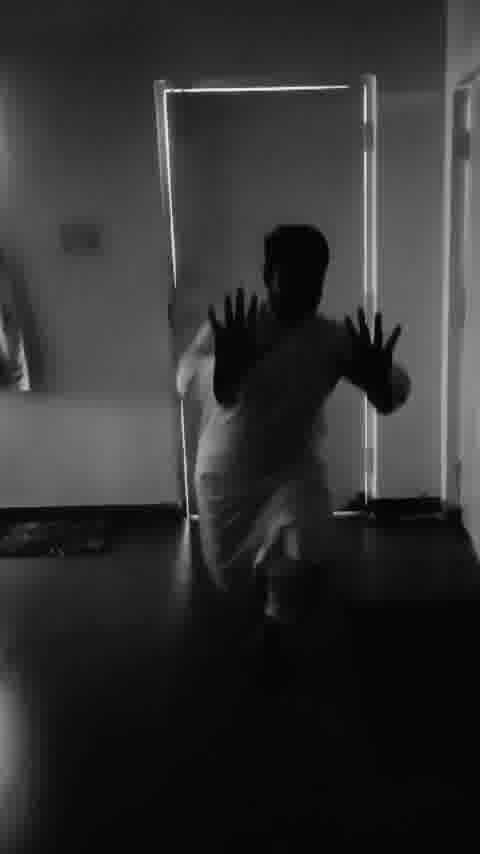duck: (165, 201, 419, 734)
